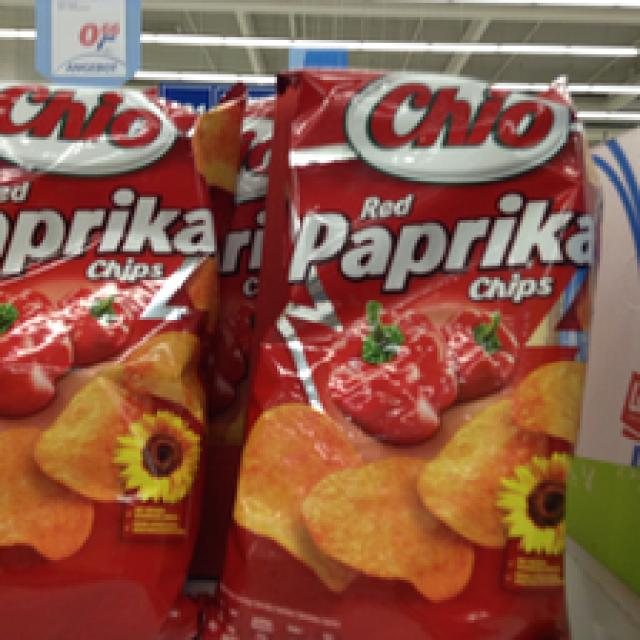groceries: (232, 69, 588, 634), (0, 83, 237, 637)
